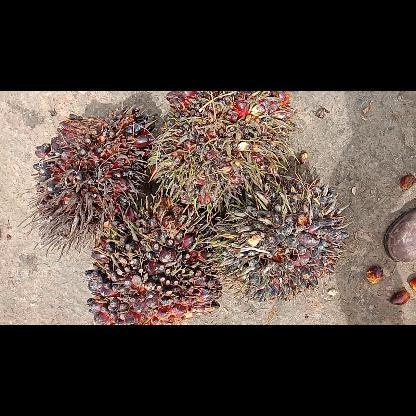TBS abnormal: (147, 94, 295, 216), (212, 168, 344, 298), (32, 110, 154, 244), (78, 222, 224, 324)
